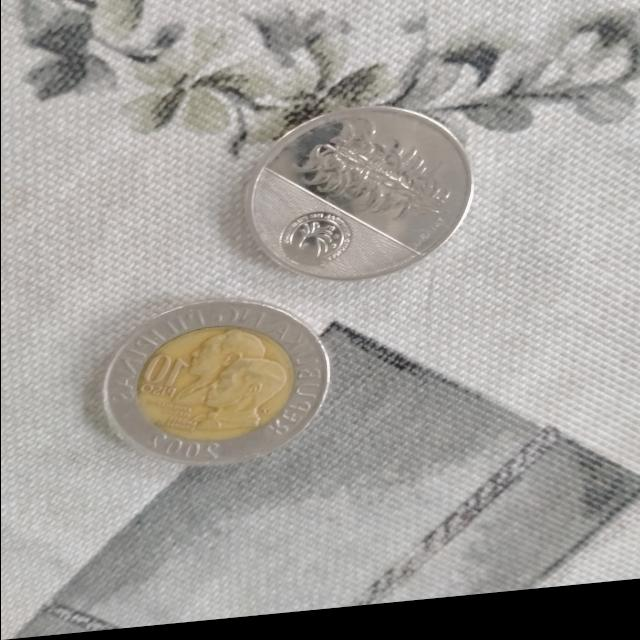10_Old_Front: (132, 343, 192, 412)
5_New_Back: (298, 119, 441, 243)
